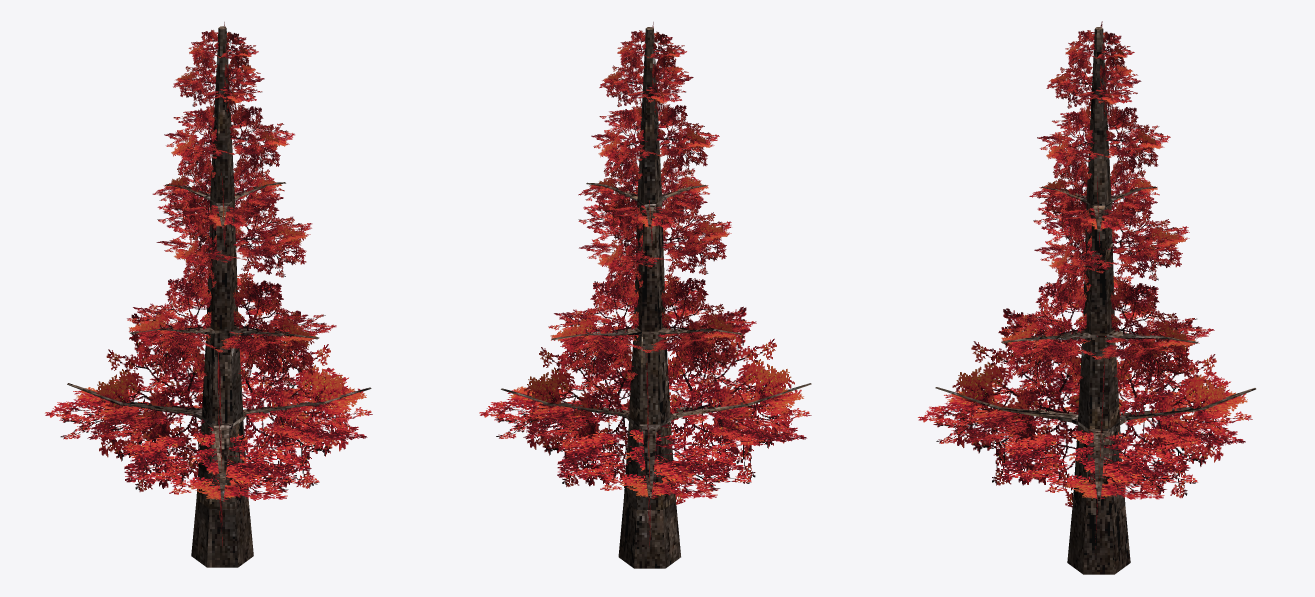
File: pixel_tree_lowpoly_red.fbx
3 renders of one model, left to right at view 1: azimuth 30°, elevation 25°; view 2: azimuth 150°, elevation 25°; view 3: azimuth 270°, elevation 25°, orthographic.
Parts seen in each view (by area): view 1: psx_foliage_red, psx_tree_log, psx_foliage_red2; view 2: psx_foliage_red, psx_tree_log, psx_foliage_red2; view 3: psx_foliage_red, psx_tree_log, psx_foliage_red2.
Boxes of the visible parts, x1,y1,x2,y2 form: psx_foliage_red: (45,22,372,546); psx_tree_log: (67,26,371,567); psx_foliage_red2: (50,30,370,544); psx_foliage_red: (479,22,811,547); psx_tree_log: (501,27,811,568); psx_foliage_red2: (481,23,808,540); psx_foliage_red: (918,21,1252,548); psx_tree_log: (935,27,1255,574); psx_foliage_red2: (922,30,1251,528).
Bounding box in the file's own units: 1128 × 1863 × 1302.
